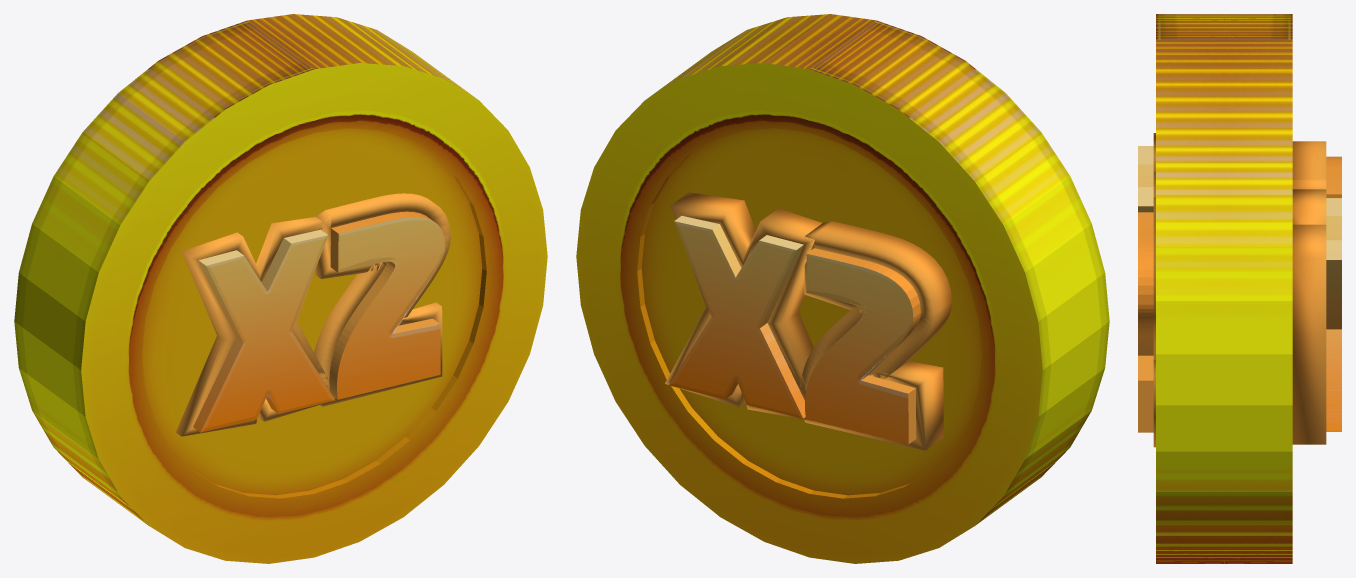
File: item-coins-v2.fbx
3 views of the same model, side by side, from view 1: azimuth 30°, elevation 25°; view 2: azimuth 150°, elevation 25°; view 3: azimuth 270°, elevation 25° (orthographic). The views are drawn at different scales.
Parts seen in each view (by area): view 1: Cylinder, Text; view 2: Cylinder, Text.001; view 3: Cylinder, Text.001, Text.
Part boxes in pixels (bbox=[...]): Cylinder: bbox=[14, 14, 547, 563]; Text: bbox=[176, 193, 450, 436]; Cylinder: bbox=[576, 14, 1109, 563]; Text.001: bbox=[665, 192, 952, 450]; Cylinder: bbox=[1156, 14, 1292, 563]; Text.001: bbox=[1292, 141, 1341, 444]; Text: bbox=[1138, 133, 1155, 447].
Size of the model in its own units: 200 by 200 by 74.08.
